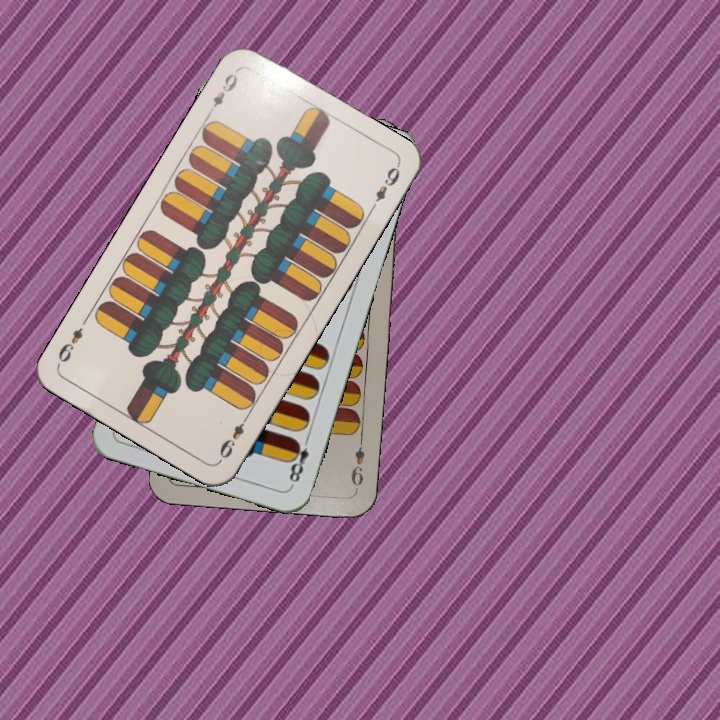E8: (285, 431, 313, 488)
E9: (215, 410, 252, 464), (203, 67, 242, 118), (347, 433, 368, 493)
